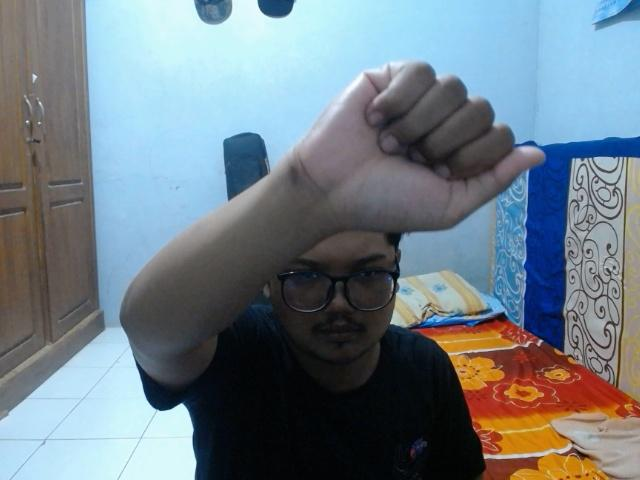Grab: (292, 54, 551, 236)
